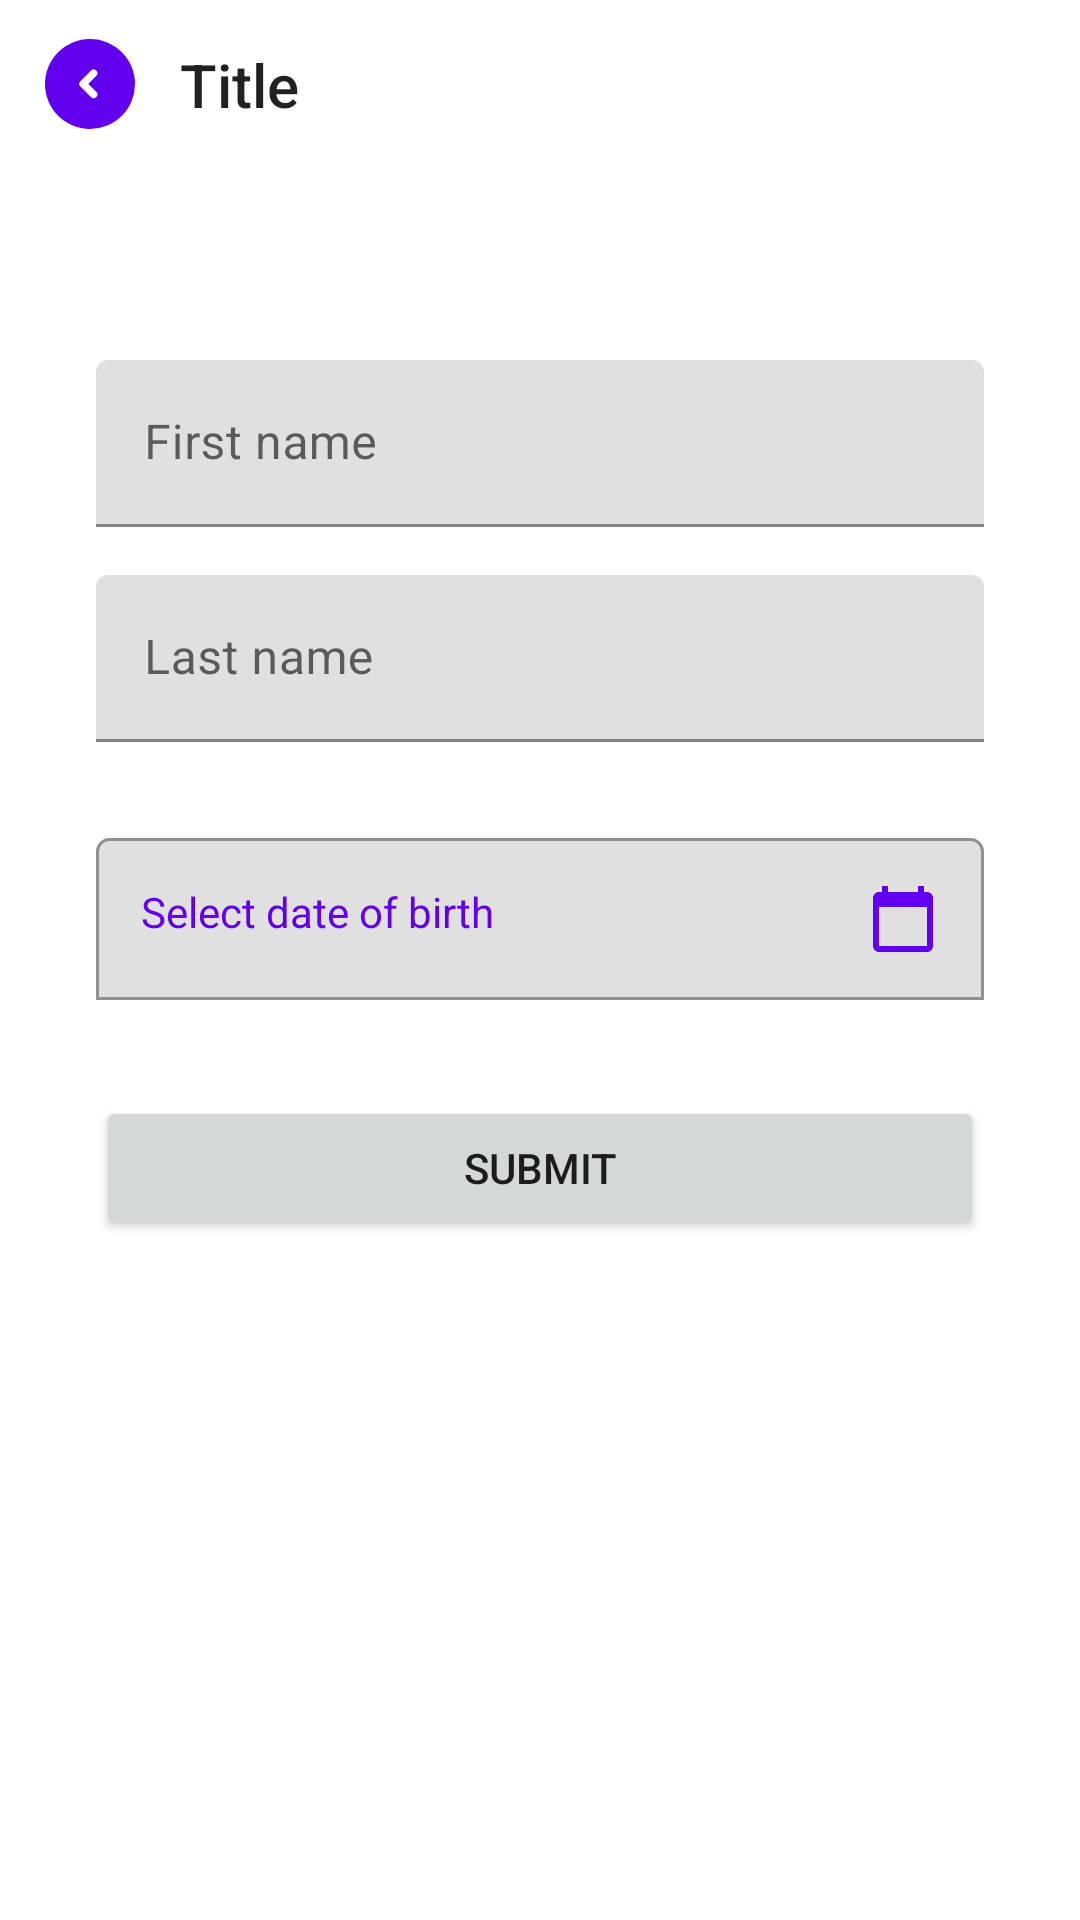

Icon bounding boxes for this 1080 x 1920 phone screenshot, format (x1, y1, x2, y2):
back arrow: (79, 69, 98, 99)
